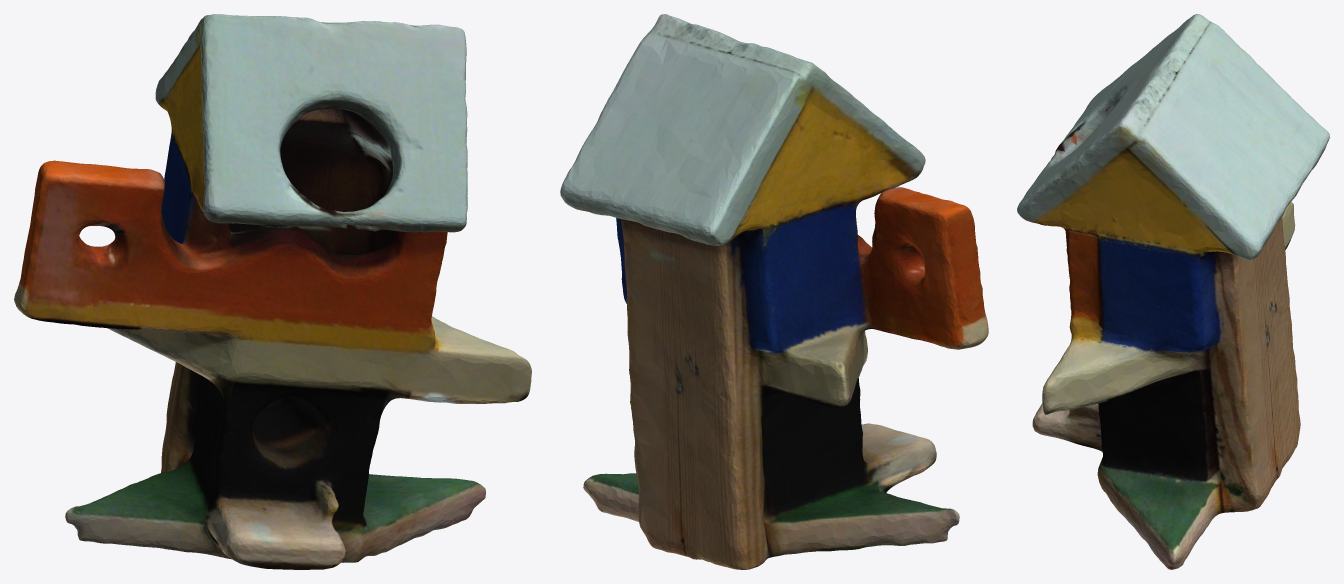
File: treehouse.obj
3 renders of one model, left to right at view 1: azimuth 30°, elevation 25°; view 2: azimuth 150°, elevation 25°; view 3: azimuth 270°, elevation 25°, orthographic. The views are drawn at different scales.
Visible parts, largest first — view 1: model_mesh; view 2: model_mesh; view 3: model_mesh.
Part boxes in pixels (bbox=[...]): model_mesh: bbox=[14, 14, 531, 569]; model_mesh: bbox=[560, 14, 988, 569]; model_mesh: bbox=[1017, 14, 1329, 569].
Size of the model in its own units: 12.46 by 14.52 by 8.97.
1 material, 1 textured.
